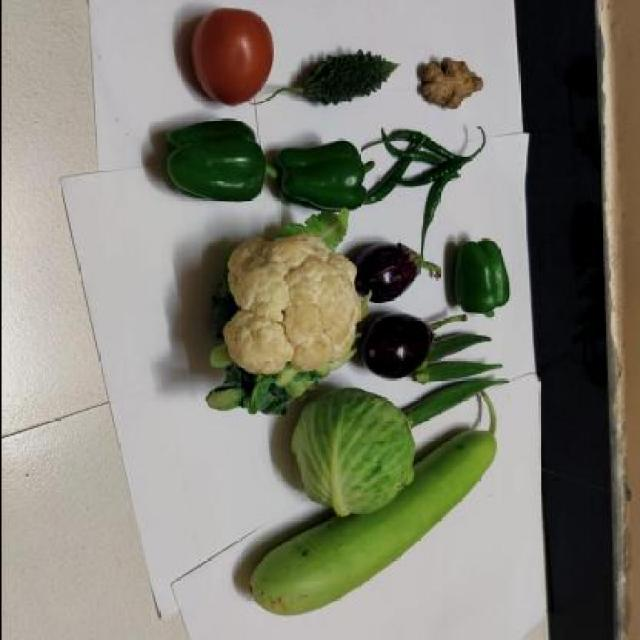Bitter melon: (263, 53, 399, 119)
Brinjal: (365, 304, 463, 376), (358, 228, 448, 302)
Cabbage: (290, 390, 416, 516)
Calabash: (264, 448, 498, 610)
Capsicum: (158, 120, 274, 206), (280, 131, 376, 211), (449, 237, 514, 317)
Cauliflower: (208, 220, 358, 411)
Ginger: (418, 61, 484, 110)
Green Chili: (376, 124, 486, 208)
Tomato: (191, 9, 275, 106)
